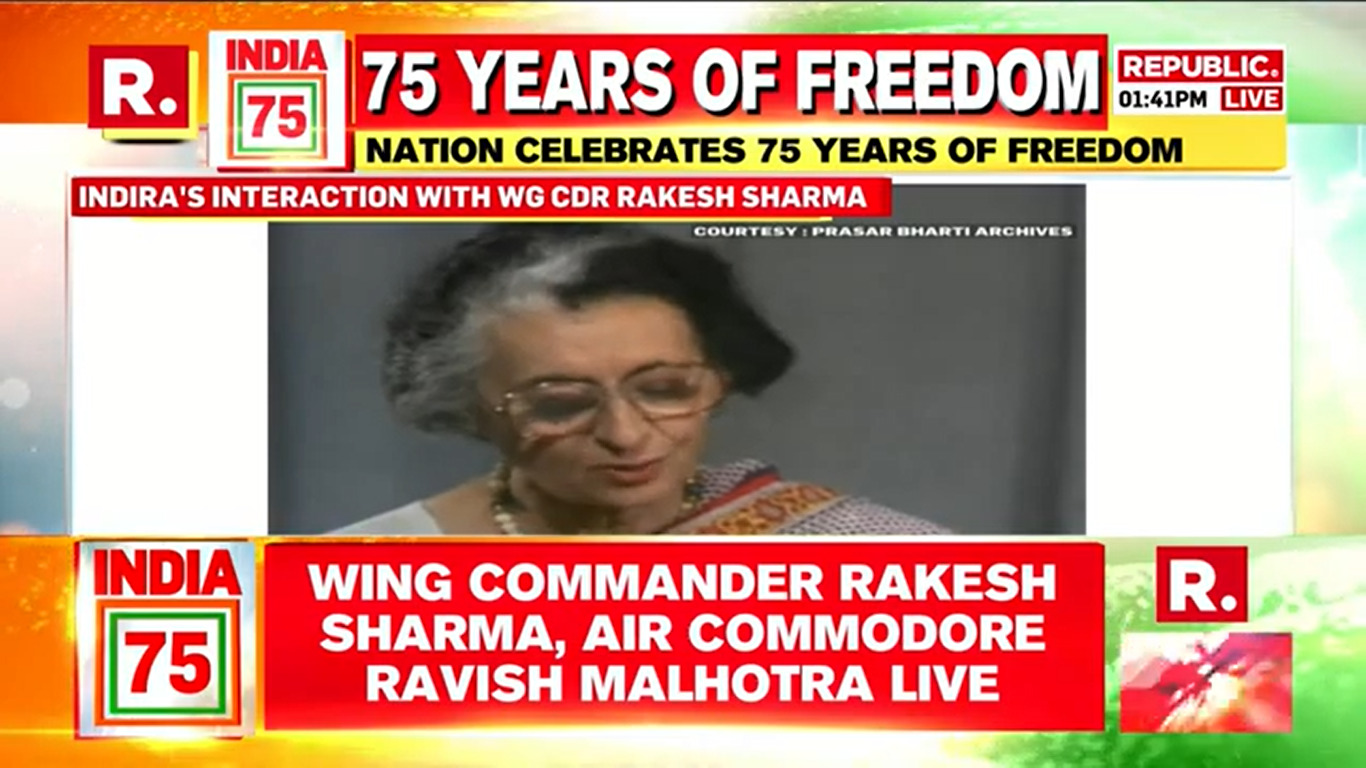Indi75: (76, 532, 254, 736), (206, 28, 346, 163)
person: (286, 228, 982, 543)
